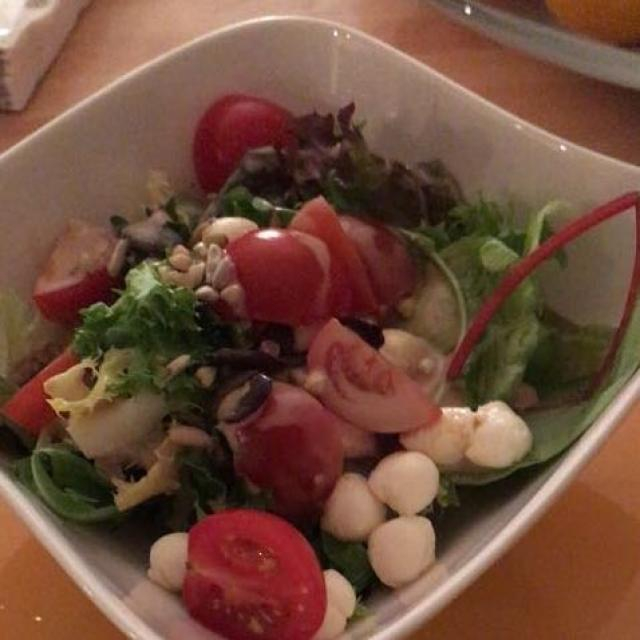salad: (49, 130, 622, 592)
